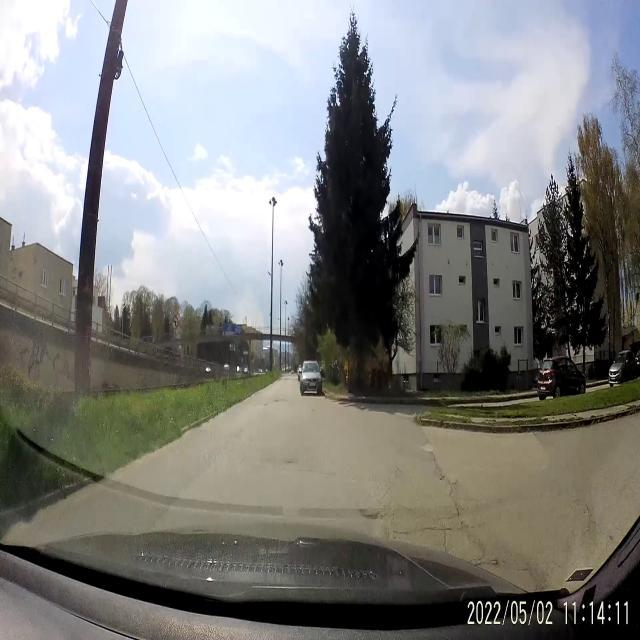Pothole: (434, 466, 462, 512), (360, 500, 390, 530), (475, 548, 503, 568), (424, 523, 454, 537), (421, 439, 436, 456), (284, 456, 298, 470), (273, 396, 288, 404)
